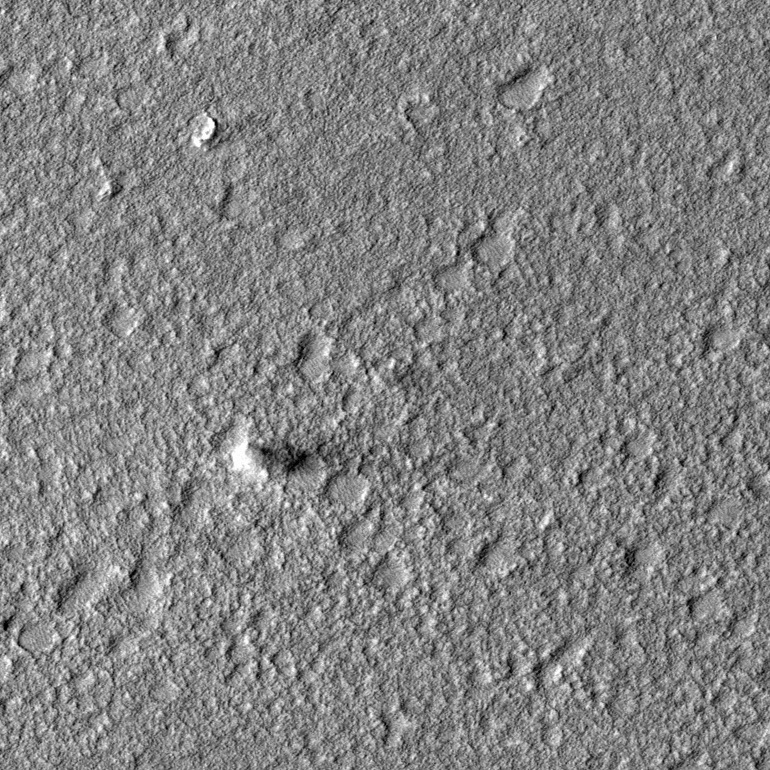dust_devil: (228, 438, 322, 479)
